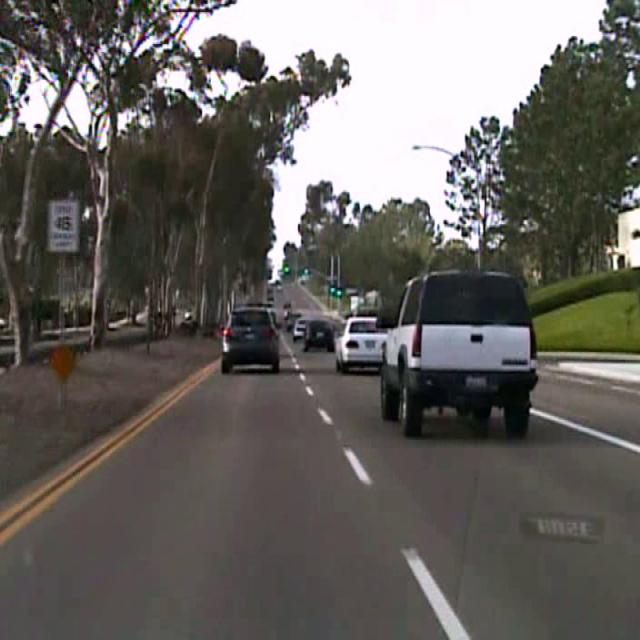speedLimit45: (46, 196, 79, 253)
